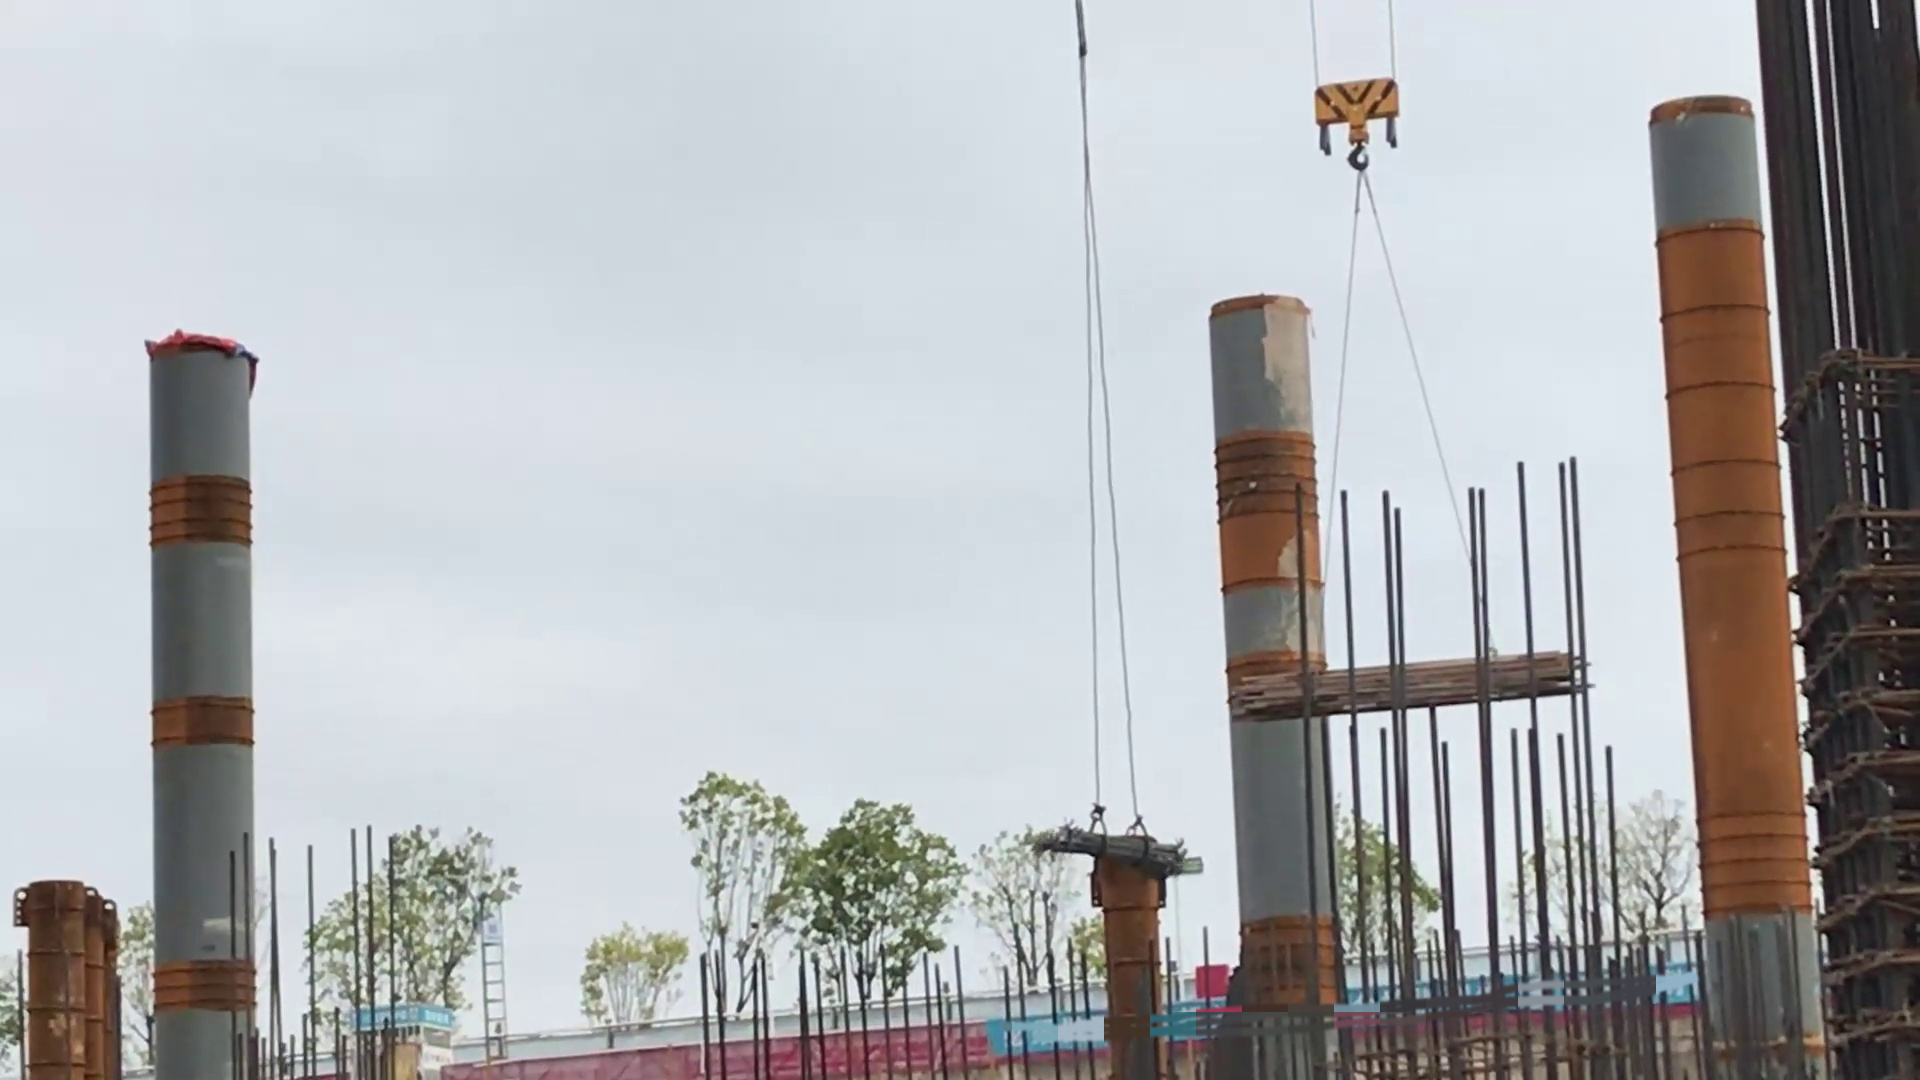hook: (1308, 67, 1410, 190)
rebar: (1030, 823, 1203, 884)
wood: (1225, 647, 1597, 733)
